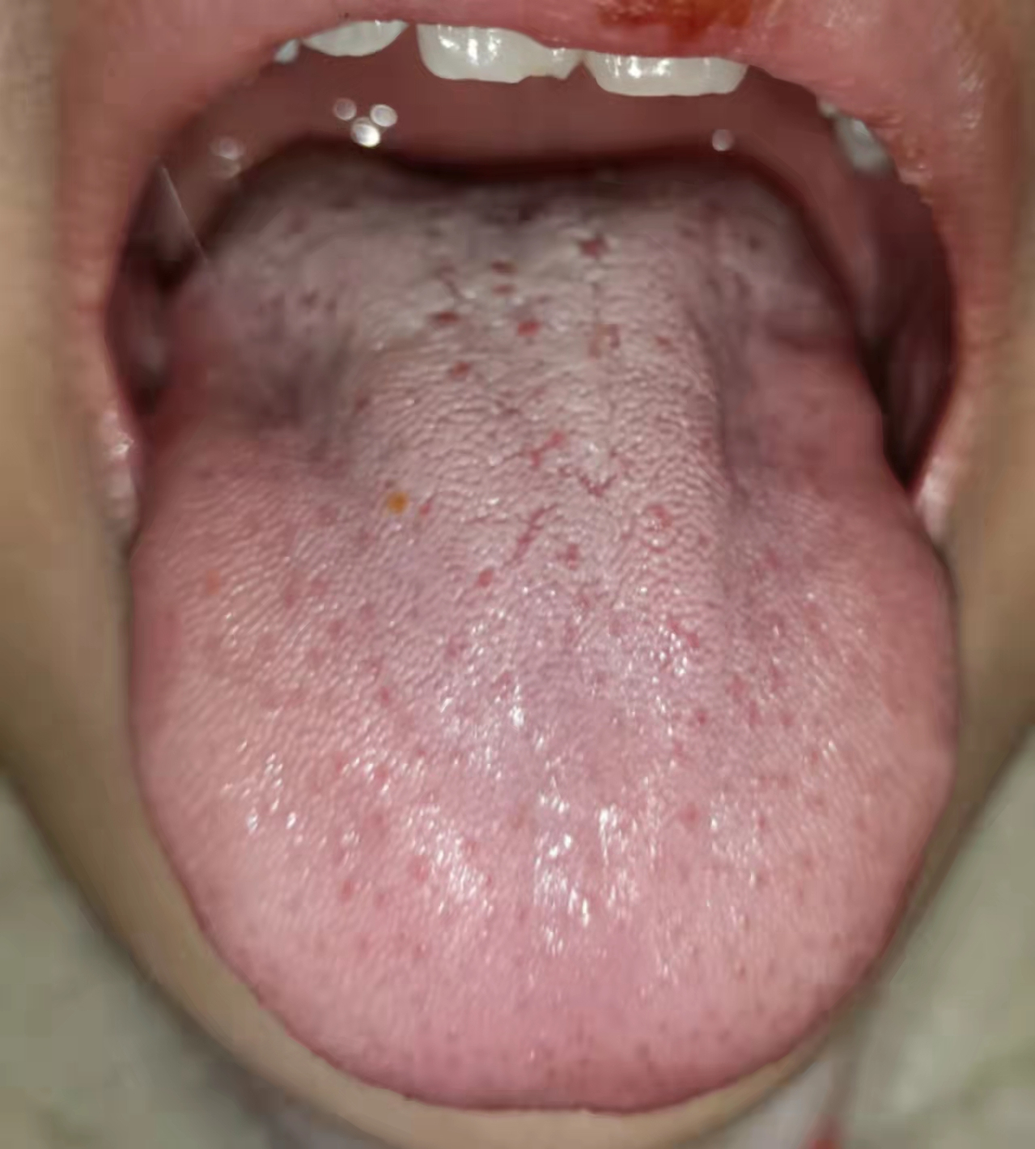baitaishe: (125, 153, 959, 1114)
gandanao: (688, 201, 943, 605), (138, 220, 380, 538)
hongdianshe: (404, 223, 676, 496)
